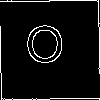O: (24, 25, 65, 73)
